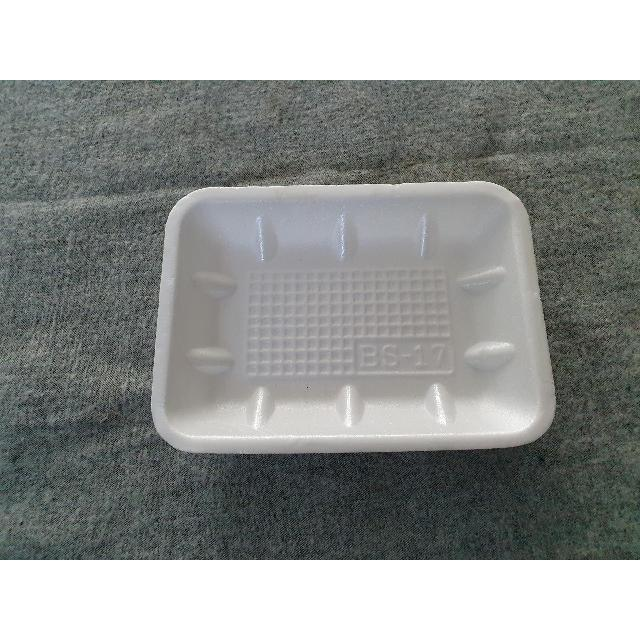Plastico descartable: (150, 181, 557, 457)
